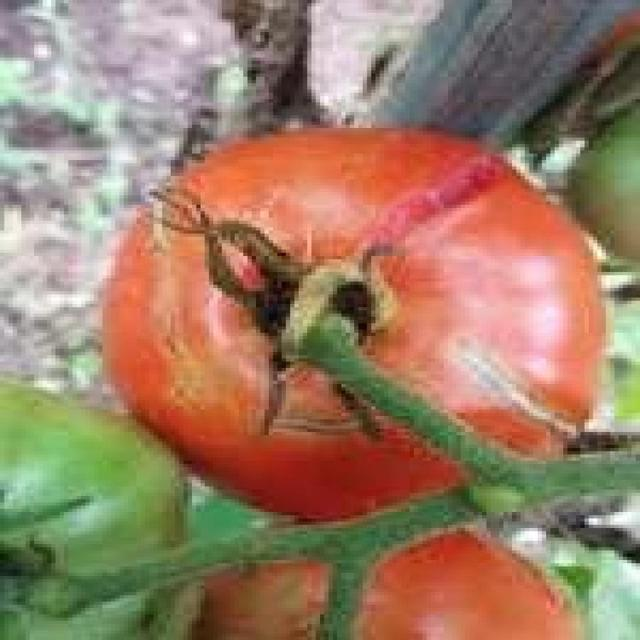Cracking Fruit: (74, 35, 220, 280)
